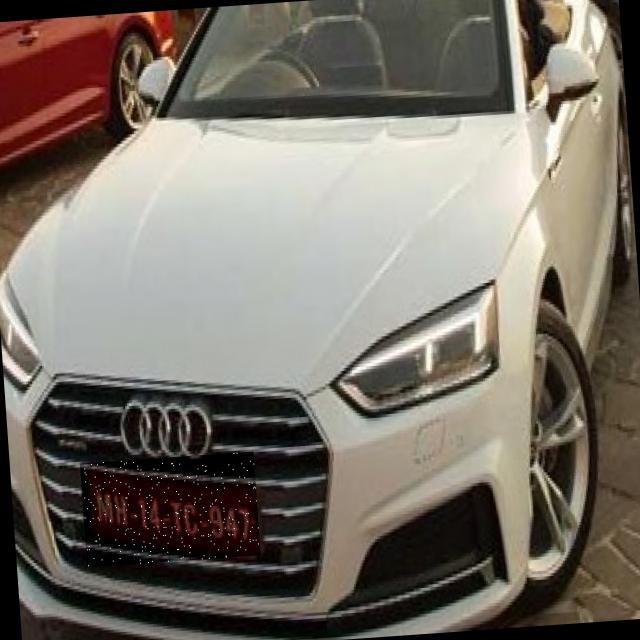Plate: (81, 453, 262, 569)
